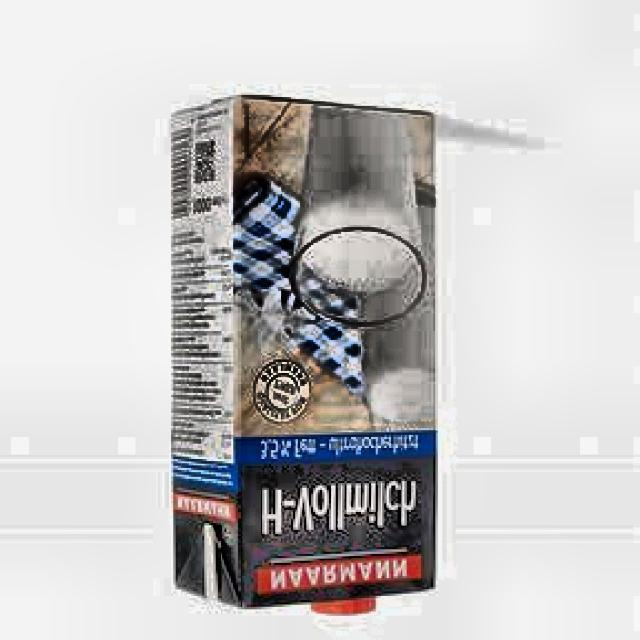cardboard: (169, 97, 438, 614)
